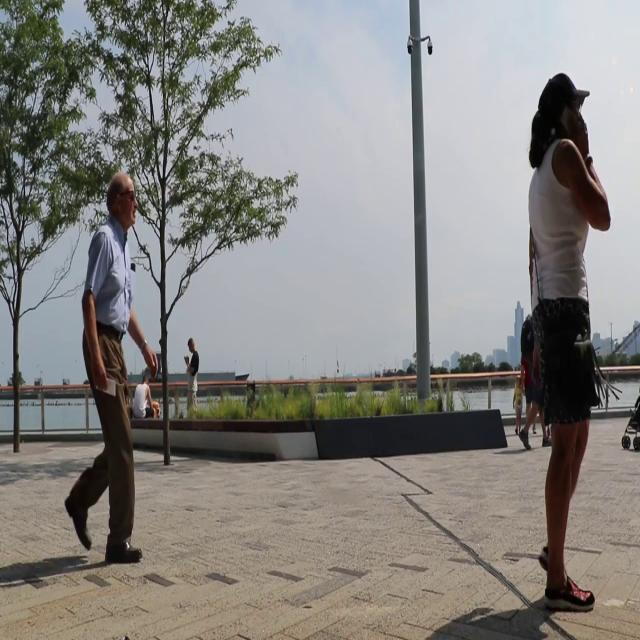normal: (517, 72, 615, 619), (62, 164, 160, 580)
